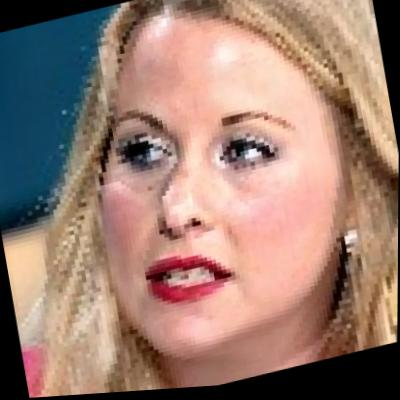angry: (46, 0, 368, 369)
